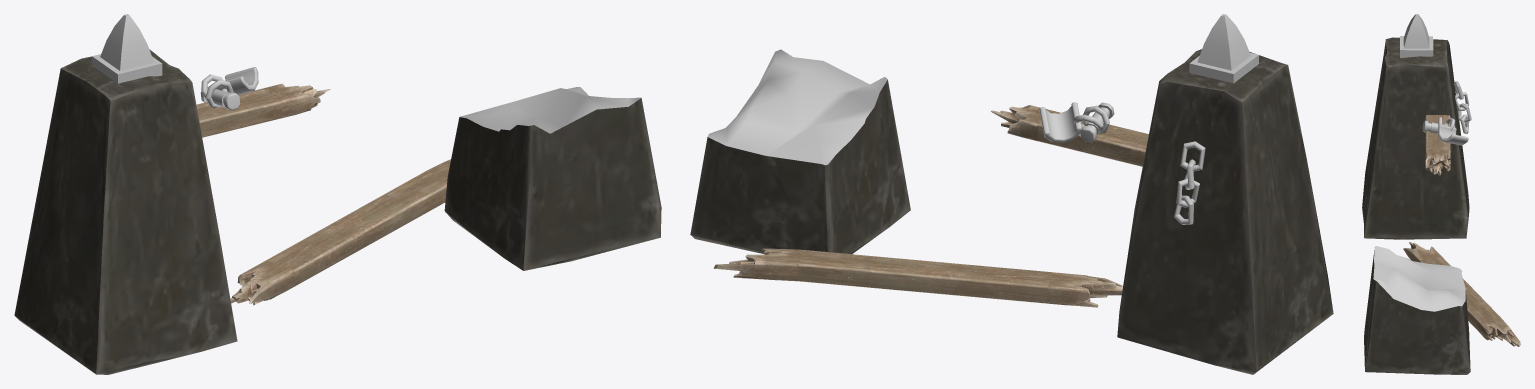
3 renders of one model, left to right at view 1: azimuth 30°, elevation 25°; view 2: azimuth 150°, elevation 25°; view 3: azimuth 270°, elevation 25°, orthographic. The views are drawn at different scales.
Visible parts, largest first — view 1: SM_HoldingBrace_03_LOD0; view 2: SM_HoldingBrace_03_LOD0; view 3: SM_HoldingBrace_03_LOD0.
Boxes of the visible parts, x1,y1,x2,y2 form: SM_HoldingBrace_03_LOD0: (14,14,661,374); SM_HoldingBrace_03_LOD0: (690,14,1333,374); SM_HoldingBrace_03_LOD0: (1362,14,1520,374).
Size of the model in its own units: 2.67 by 1.42 by 0.9999.
